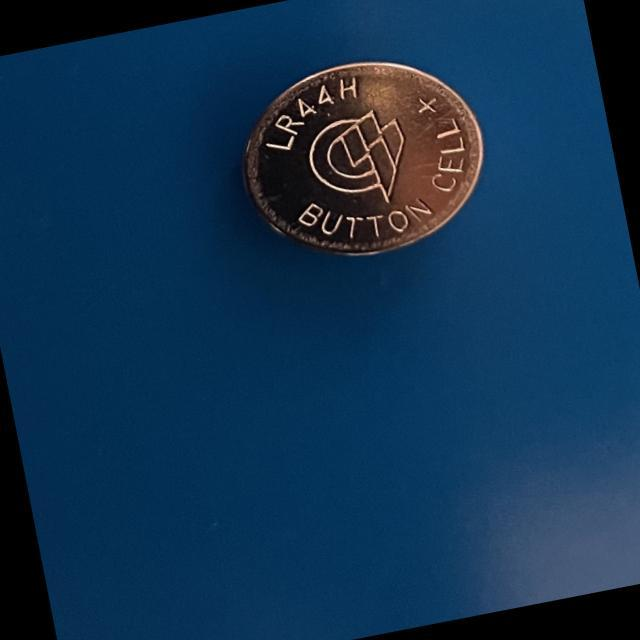COIN: (228, 41, 498, 275)
